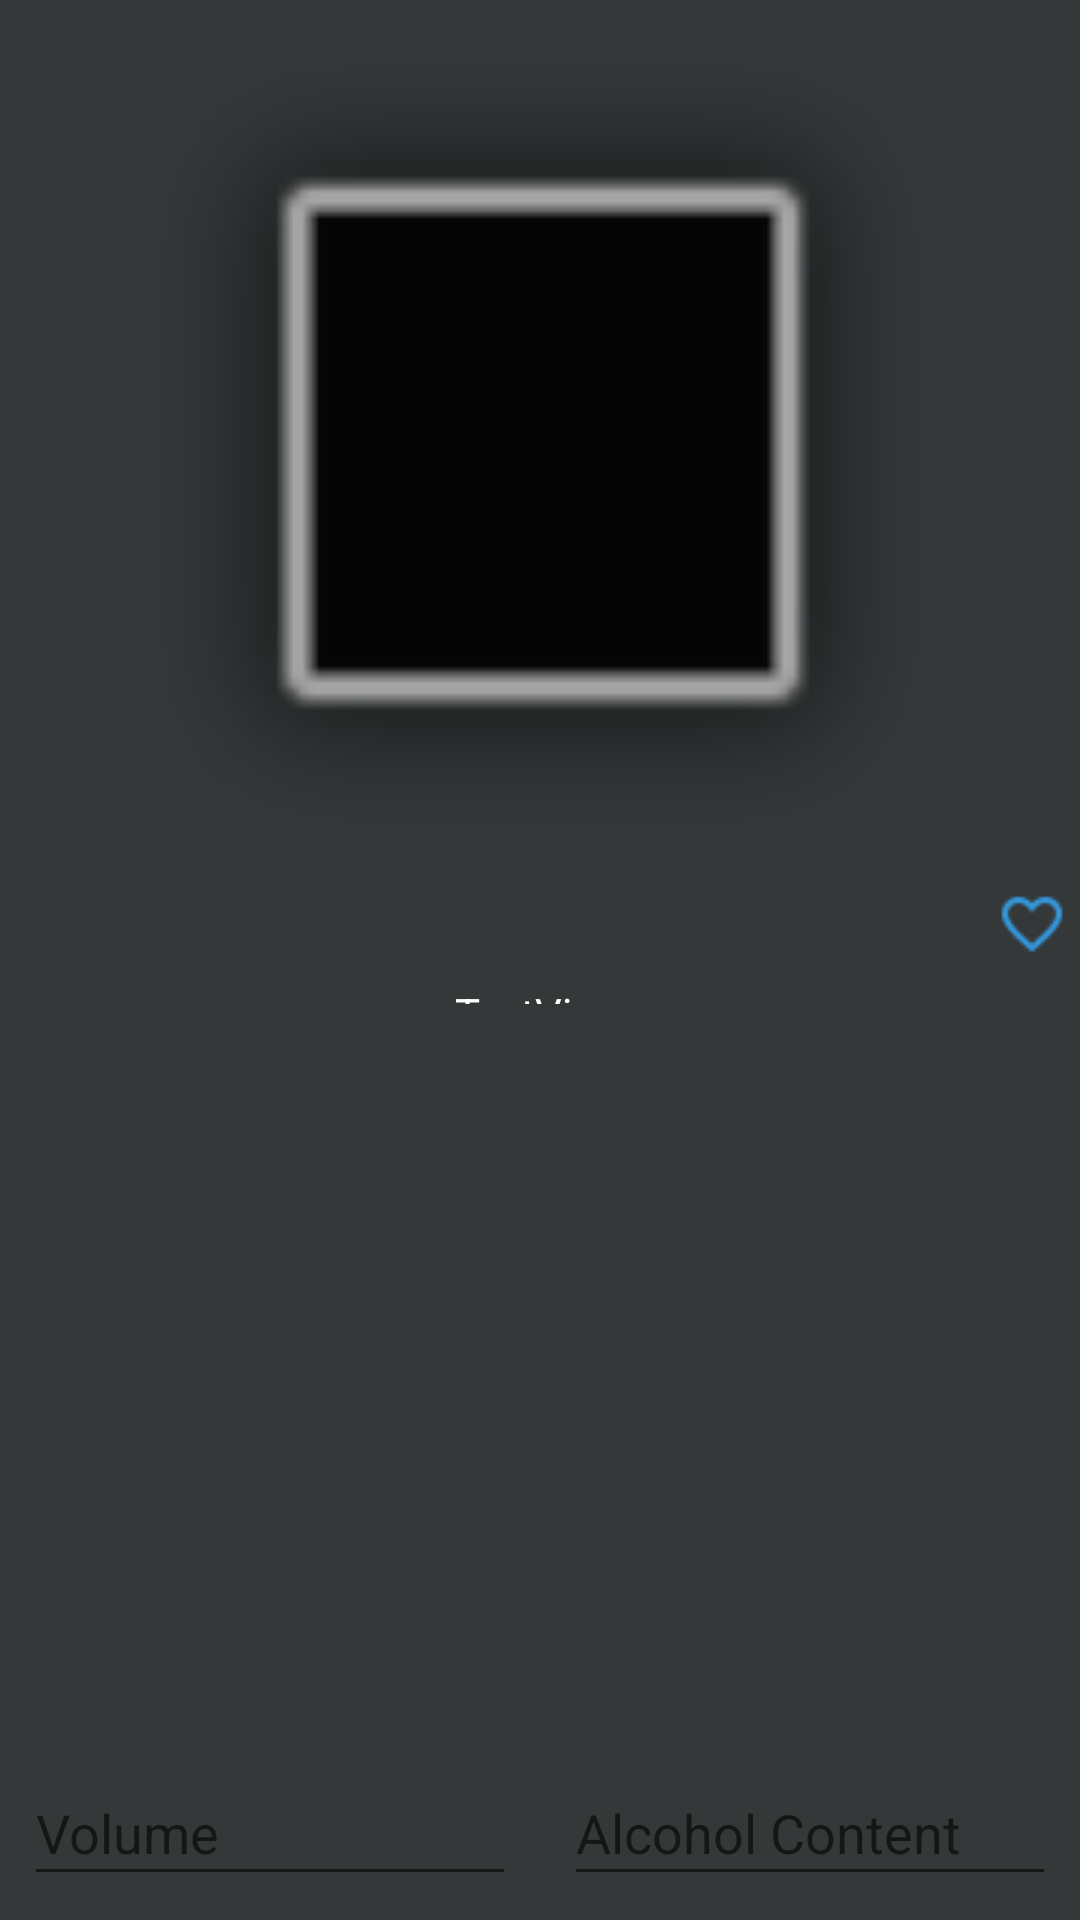

Screen size 1080 × 1920. Icon name, then its box in pixels as (x1, y1, x2, y2):
heart: (1001, 896, 1063, 952)
